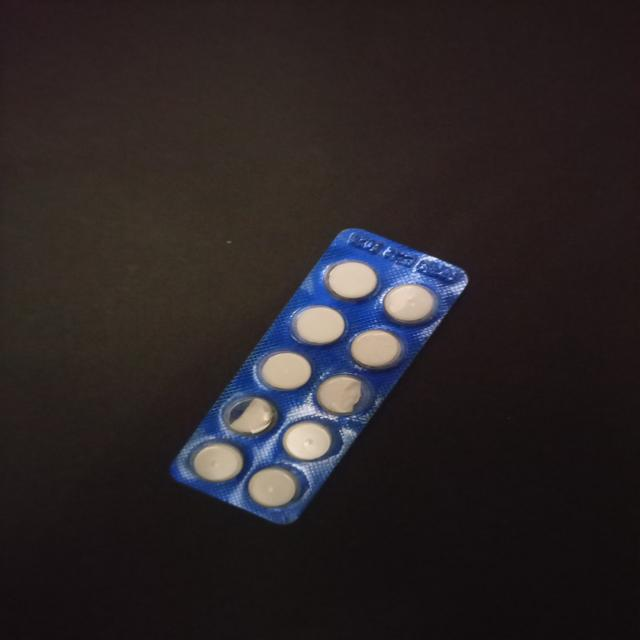defect: (312, 371, 378, 418), (220, 393, 282, 438)
